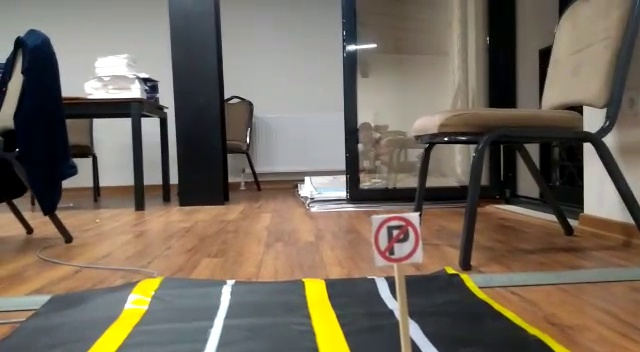park_yapilmaz: (372, 213, 422, 265)
